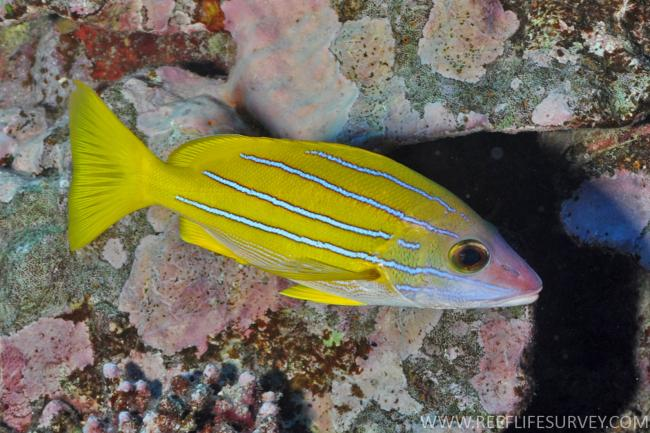fish: (66, 80, 544, 310)
